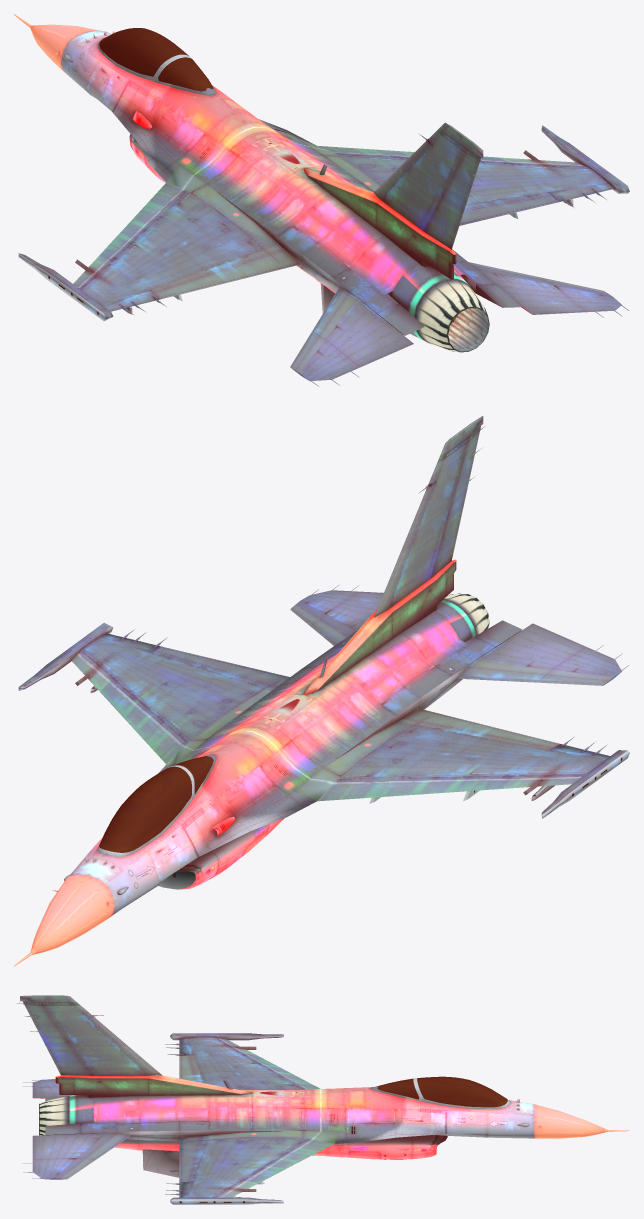
3 views of the same model, one above another, from view 1: azimuth 30°, elevation 25°; view 2: azimuth 150°, elevation 25°; view 3: azimuth 270°, elevation 25° (orthographic). The views are drawn at different scales.
Visible parts, largest first — view 1: F-16A_LOD0, F-16A_ElevatorL01, F-16A_EngineL01, F-16A_ElevatorR01, F-16A_Glass01, F-16A_AileronL01, F-16A_VoletL01, F-16A_RudderL01, F-16A_AileronR01, F-16A_VoletR01, F-16A_Canopy01, F-16A_BrakeL01 (+1 smaller); view 2: F-16A_LOD0, F-16A_ElevatorL01, F-16A_Glass01, F-16A_VoletL01, F-16A_VoletR01, F-16A_ElevatorR01, F-16A_AileronL01, F-16A_AileronR01, F-16A_RudderL01, F-16A_Canopy01, F-16A_EngineL01; view 3: F-16A_LOD0, F-16A_ElevatorR01, F-16A_Glass01, F-16A_RudderL01, F-16A_VoletR01, F-16A_AileronR01, F-16A_EngineL01, F-16A_VoletL01, F-16A_Canopy01, F-16A_ElevatorL01, F-16A_AileronL01, F-16A_BrakeR01.
Part boxes in pixels (<box>): F-16A_LOD0: <box>14,14,629,340</box>; F-16A_ElevatorL01: <box>290,288,413,386</box>; F-16A_EngineL01: <box>414,279,489,352</box>; F-16A_ElevatorR01: <box>468,262,628,317</box>; F-16A_Glass01: <box>99,28,213,91</box>; F-16A_AileronL01: <box>150,244,300,299</box>; F-16A_VoletL01: <box>73,182,186,289</box>; F-16A_RudderL01: <box>425,149,485,249</box>; F-16A_AileronR01: <box>459,192,560,225</box>; F-16A_VoletR01: <box>318,146,585,166</box>; F-16A_Canopy01: <box>86,37,190,92</box>; F-16A_BrakeL01: <box>378,303,424,335</box>; F-16A_LOD0: <box>14,416,629,966</box>; F-16A_ElevatorL01: <box>457,623,628,685</box>; F-16A_Glass01: <box>99,756,213,852</box>; F-16A_VoletL01: <box>317,774,585,801</box>; F-16A_VoletR01: <box>71,651,187,764</box>; F-16A_ElevatorR01: <box>290,584,383,645</box>; F-16A_AileronL01: <box>397,709,559,749</box>; F-16A_AileronR01: <box>150,646,289,690</box>; F-16A_RudderL01: <box>433,426,485,576</box>; F-16A_Canopy01: <box>86,765,205,866</box>; F-16A_EngineL01: <box>443,593,489,635</box>; F-16A_LOD0: <box>20,995,629,1204</box>; F-16A_ElevatorR01: <box>22,1133,130,1179</box>; F-16A_Glass01: <box>378,1076,507,1107</box>; F-16A_RudderL01: <box>17,1001,90,1075</box>; F-16A_VoletR01: <box>215,1139,333,1197</box>; F-16A_AileronR01: <box>179,1135,209,1182</box>; F-16A_EngineL01: <box>39,1096,69,1135</box>; F-16A_VoletL01: <box>215,1038,320,1089</box>; F-16A_Canopy01: <box>409,1078,513,1113</box>; F-16A_ElevatorL01: <box>22,1079,73,1098</box>; F-16A_AileronL01: <box>179,1055,203,1082</box>; F-16A_BrakeR01: <box>45,1123,79,1135</box>.
Bounding box in the file's own units: 9.56 × 4.63 × 14.98.
4 materials, 4 textured.
